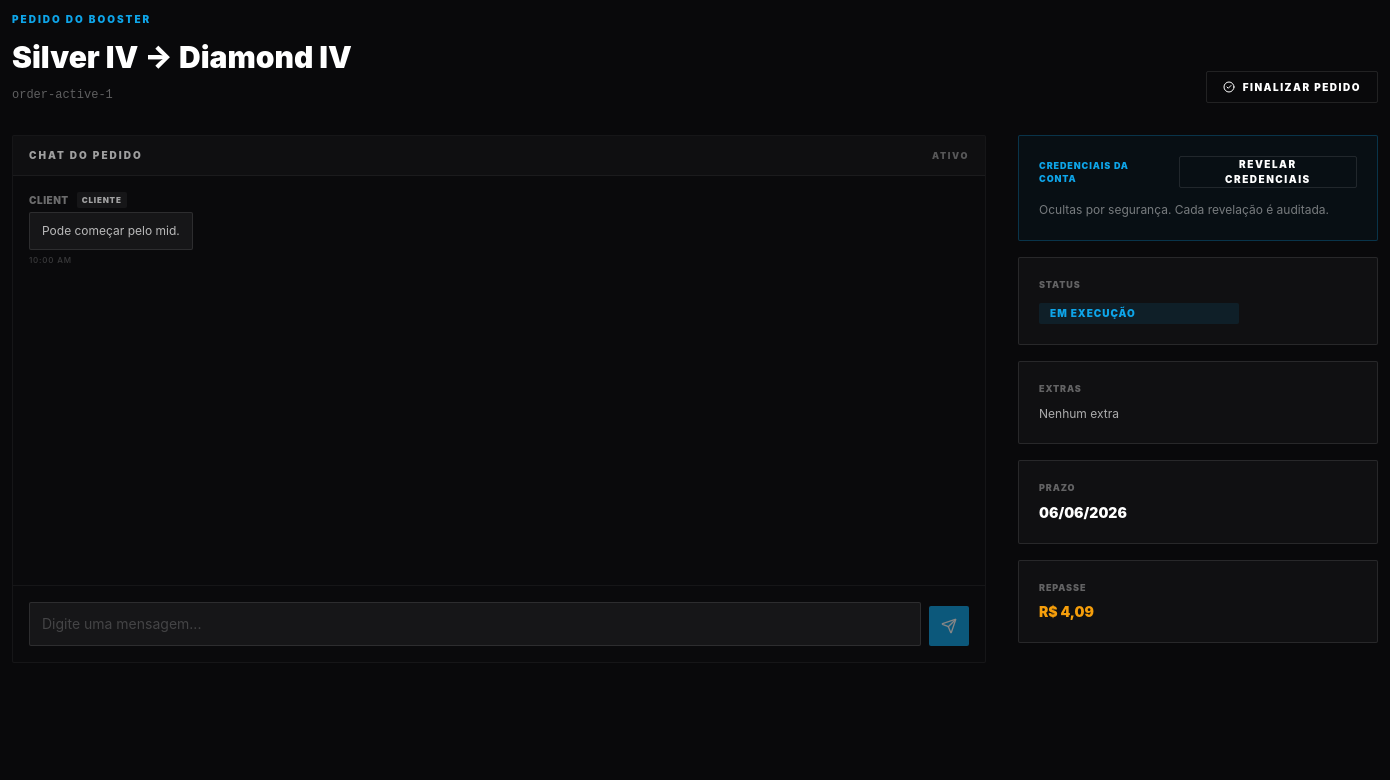
BoosterOrderDetailsPage › shows credential reveal failures without exposing fields: Muitas tentativas. Aguarde antes de tentar novamente.
Click the button "Revelar credenciais".
click(1268, 172)  # box x1=1179 y1=156 x2=1357 y2=188
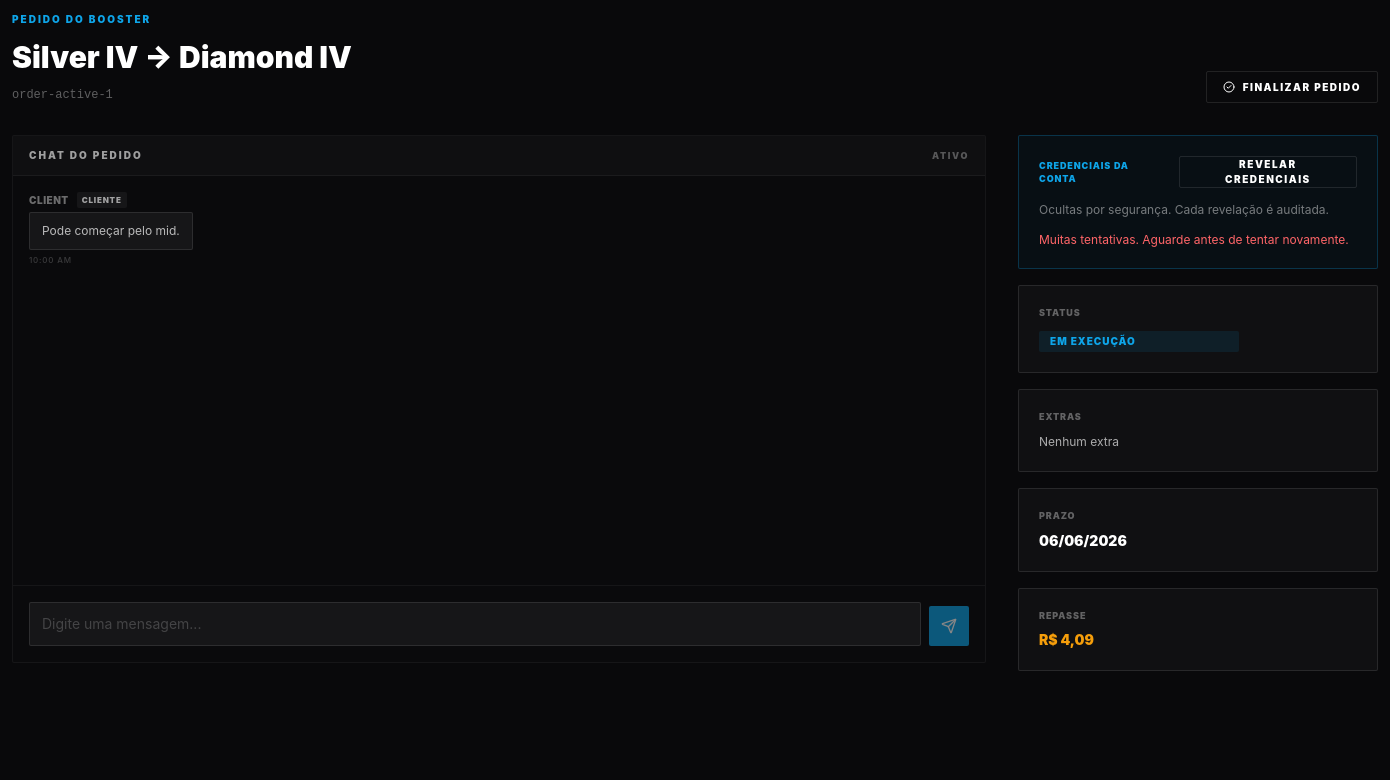
Result: the text "Muitas tentativas. Aguarde antes de tentar novamente." is shown at x1=1039 y1=232 x2=1357 y2=248
